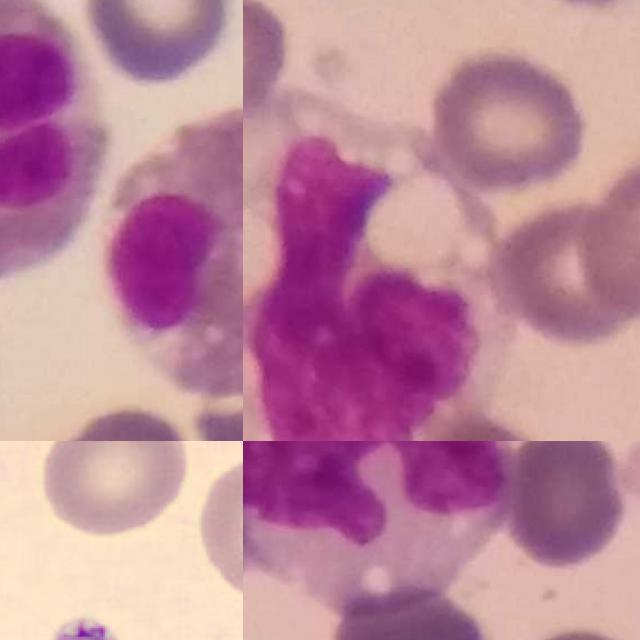Eosinophil: (106, 107, 243, 401), (0, 0, 105, 289)
Monocyte: (243, 122, 479, 441), (243, 441, 512, 590)
Platelets: (35, 612, 133, 640)
RBC: (35, 441, 193, 540), (192, 450, 243, 607)
